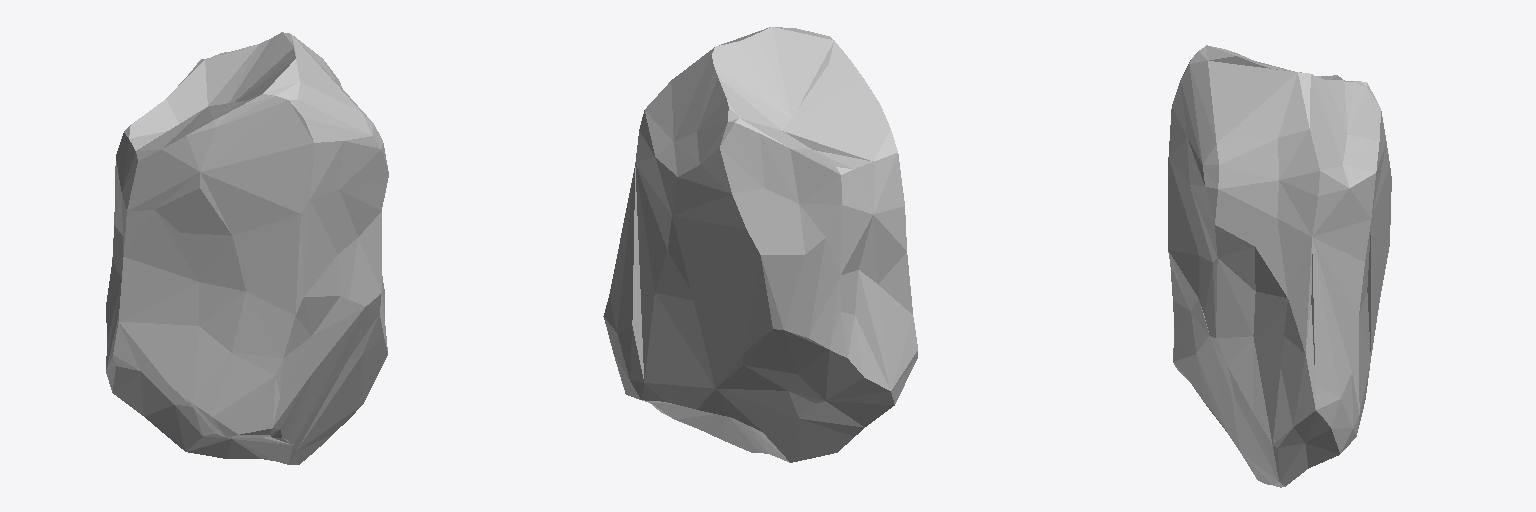
File: Rock_V2.obj
The picture shows the model from 3 angles: view 1: azimuth 30°, elevation 25°; view 2: azimuth 150°, elevation 25°; view 3: azimuth 270°, elevation 25°; orthographic projection.
Visible parts, largest first — view 1: Cube_Cube.001; view 2: Cube_Cube.001; view 3: Cube_Cube.001.
Part boxes in pixels (x1,y1,x2,y2): Cube_Cube.001: (106,32,388,464); Cube_Cube.001: (603,27,917,462); Cube_Cube.001: (1168,45,1391,487).
Size of the model in its own units: 1.34 by 1.82 by 0.8827.